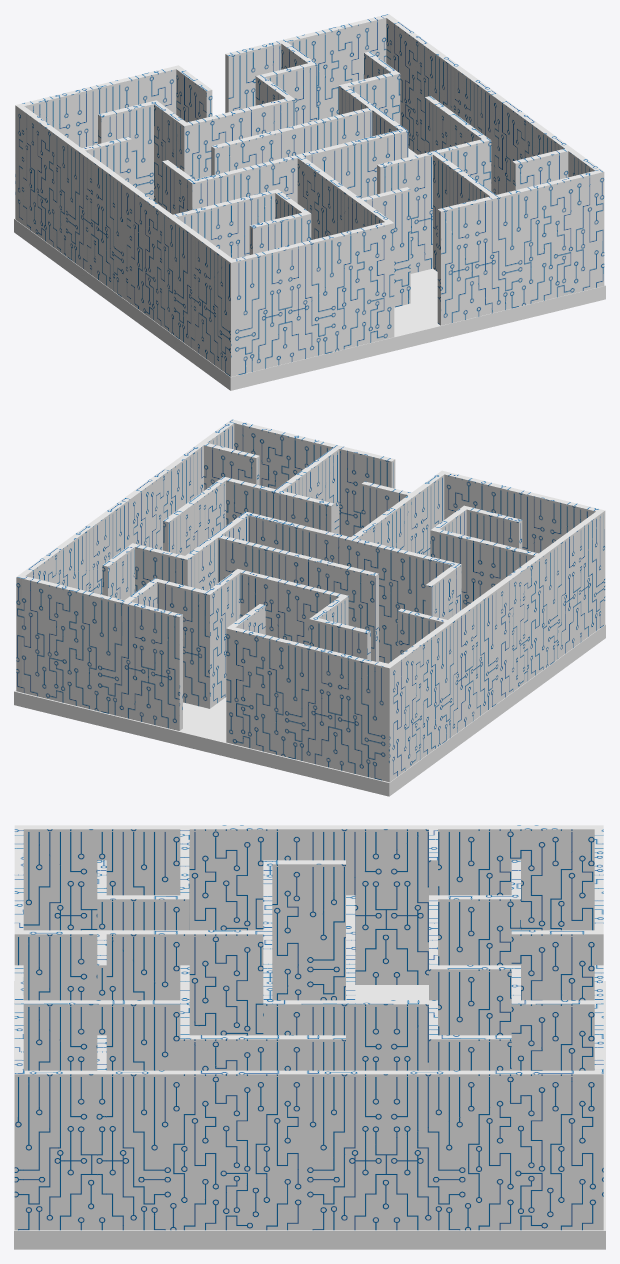
Rendered from Maze(microCenter).glb.
3 views of the same model, one above another, from view 1: azimuth 30°, elevation 25°; view 2: azimuth 150°, elevation 25°; view 3: azimuth 270°, elevation 25° (orthographic). The views are drawn at different scales.
Parts seen in each view (by area): view 1: Maze, Cube; view 2: Maze, Cube; view 3: Maze, Cube.
Boxes of the visible parts, box(x1,y1,x2,y2) form: Maze: box(15, 14, 604, 376); Cube: box(14, 148, 605, 390); Maze: box(16, 419, 605, 782); Cube: box(14, 624, 605, 796); Maze: box(14, 825, 603, 1230); Cube: box(14, 981, 605, 1249).
Bounding box in the file's own units: 0.9887 × 0.3214 × 0.9887.
Materials: 2 (1 with a texture image).
